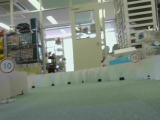speed_10: (1, 56, 16, 76), (128, 52, 140, 64)
